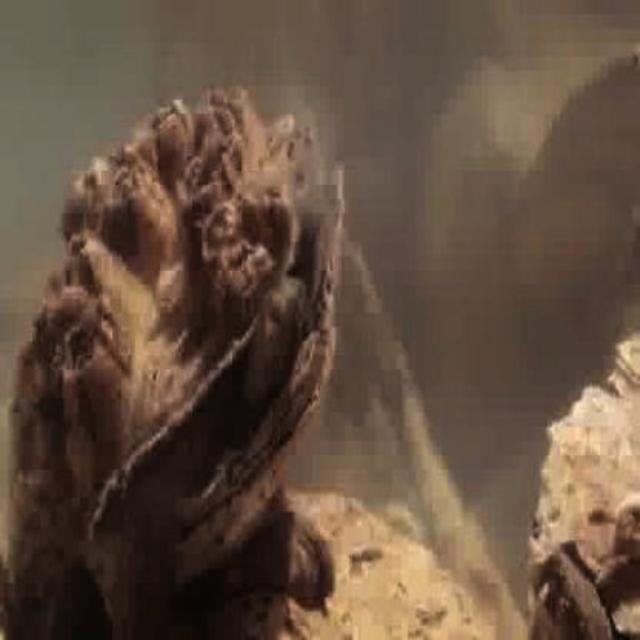Oyster-Closed: (217, 491, 494, 640), (535, 386, 640, 628), (197, 512, 332, 615), (618, 331, 640, 382)
Oyster-Open: (5, 91, 343, 608), (531, 556, 614, 640)
